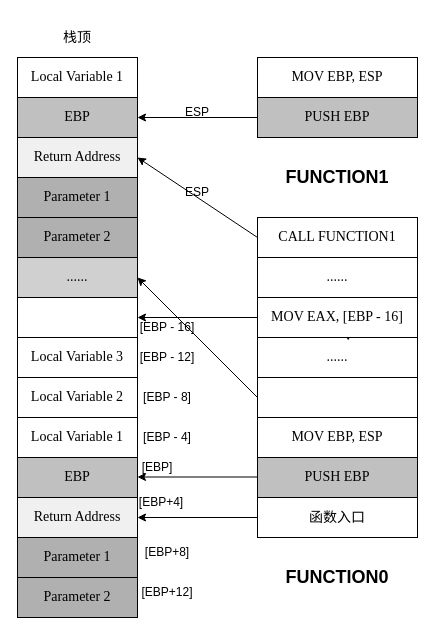
Some shapes in this 435 by 635 pixel diagram are drawn without their labels. The shapes that lost their labels are listed below. From the top down, each one's box as (x1, y1, x2, y2) in pixels, then its label:
(16, 296, 138, 338): Local Variable 4
(256, 376, 418, 418): SUB ESP, 4096
